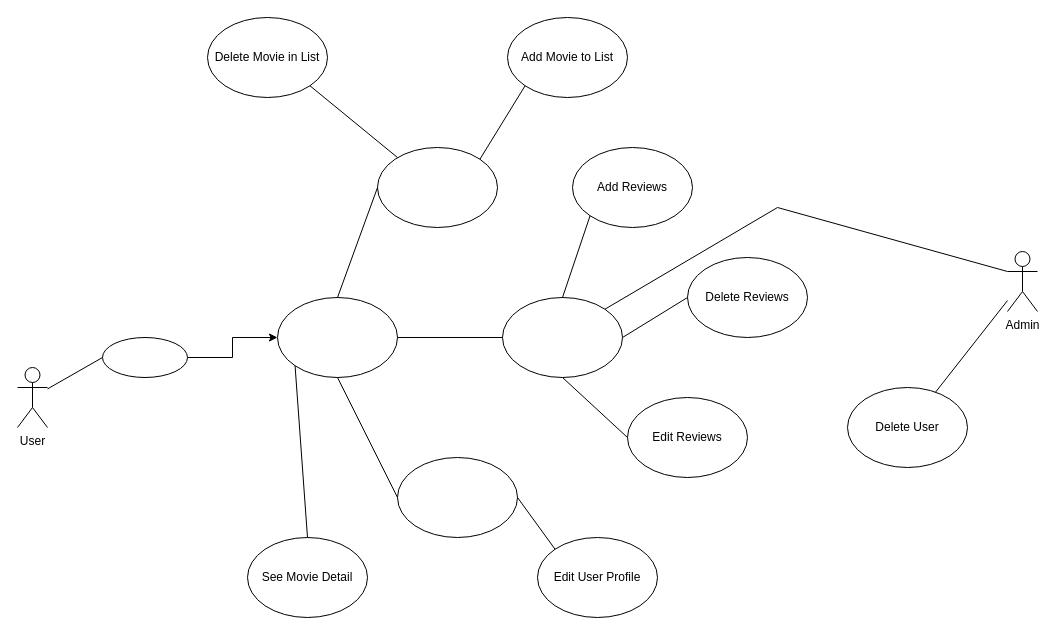
Some shapes in this 1057 by 635 pixel diagram are drawn without their labels. The box of each missing label's shape, as (x1, y1, x2, y2) in pixels:
Login: (102, 336, 188, 378)
Manage List: (376, 146, 498, 228)
Manage Reviews: (502, 296, 622, 378)
Manage User Profile: (396, 456, 518, 538)
Show Top Movies, Recent Reviews: (276, 296, 398, 378)
